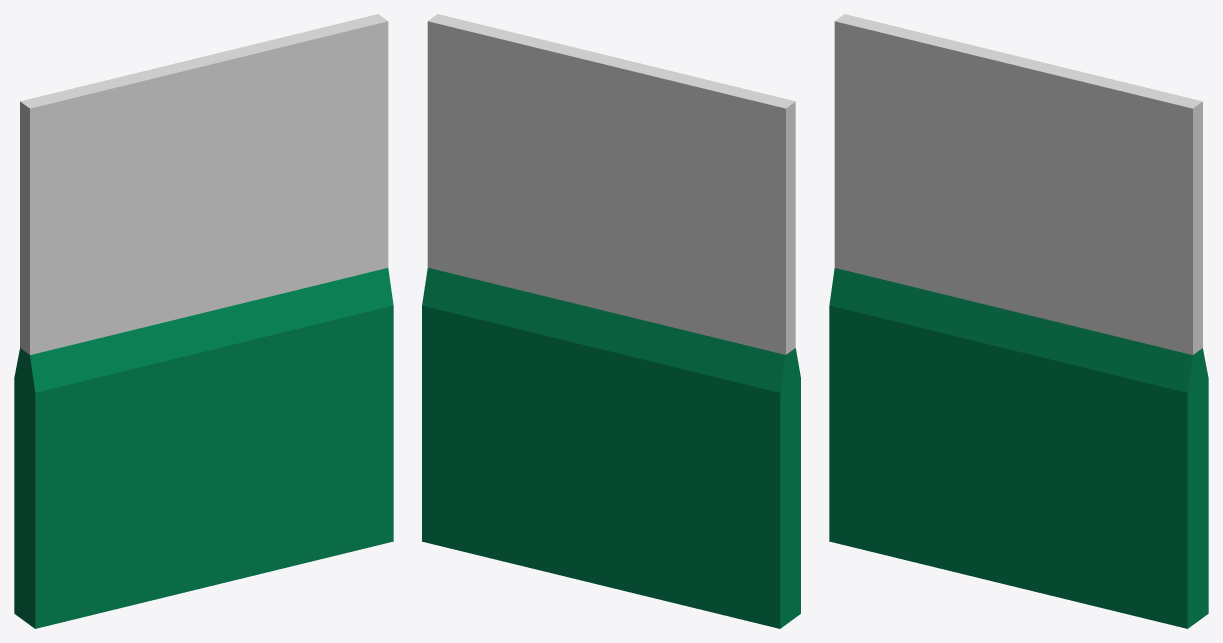
The model's file is wall_50.fbx.
3 renders of one model, left to right at view 1: azimuth 30°, elevation 25°; view 2: azimuth 150°, elevation 25°; view 3: azimuth 330°, elevation 25°, orthographic.
Visible parts, largest first — view 1: WALL_7.002; view 2: WALL_7.002; view 3: WALL_7.002.
Part boxes in pixels (box(x1,y1,x2,y2)): WALL_7.002: box(14, 14, 393, 628); WALL_7.002: box(422, 14, 800, 628); WALL_7.002: box(829, 14, 1208, 628).
Bounding box in the file's own units: 3.52 × 4.85 × 0.355.
